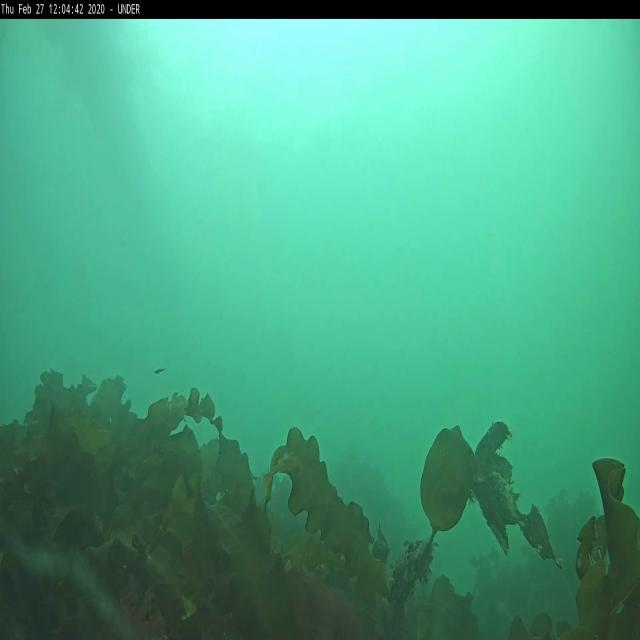fish: (152, 366, 166, 378)
